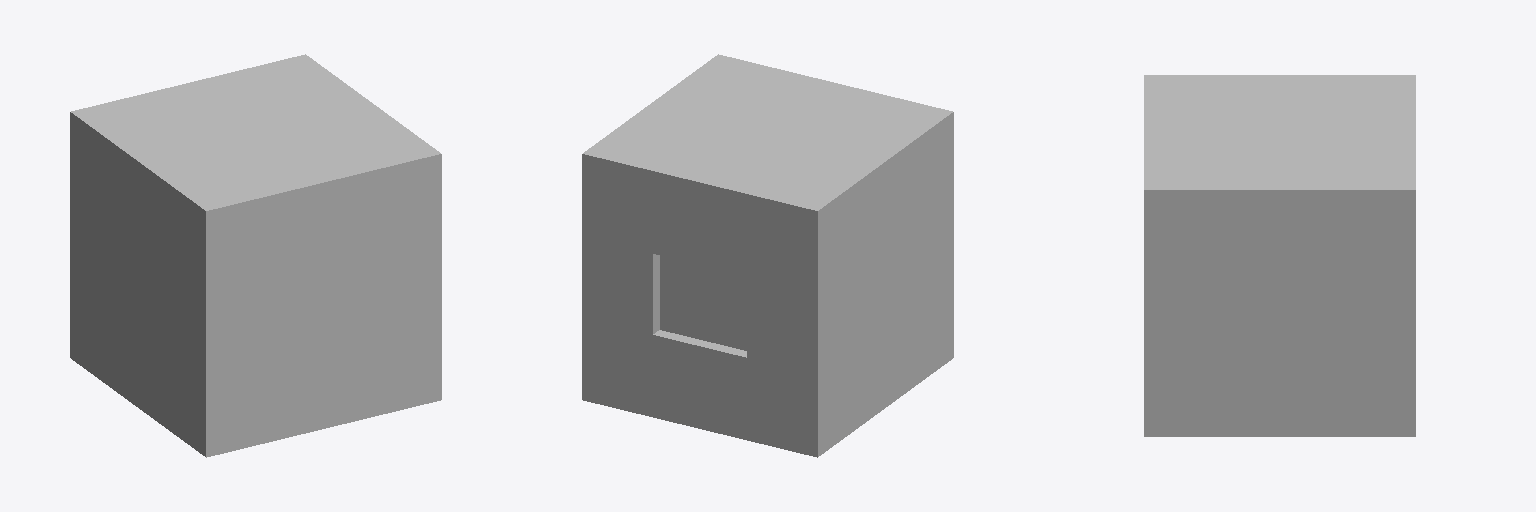
The model's file is wall-fortified-paint-window.obj.
3 views of the same model, side by side, from view 1: azimuth 30°, elevation 25°; view 2: azimuth 150°, elevation 25°; view 3: azimuth 270°, elevation 25° (orthographic).
Parts seen in each view (by area): view 1: wall-fortified-paint-window; view 2: wall-fortified-paint-window; view 3: wall-fortified-paint-window.
Part boxes in pixels (x1,y1,x2,y2): wall-fortified-paint-window: (70, 54, 441, 457); wall-fortified-paint-window: (582, 54, 953, 457); wall-fortified-paint-window: (1144, 75, 1415, 436).
Size of the model in its own units: 1 by 1 by 1.